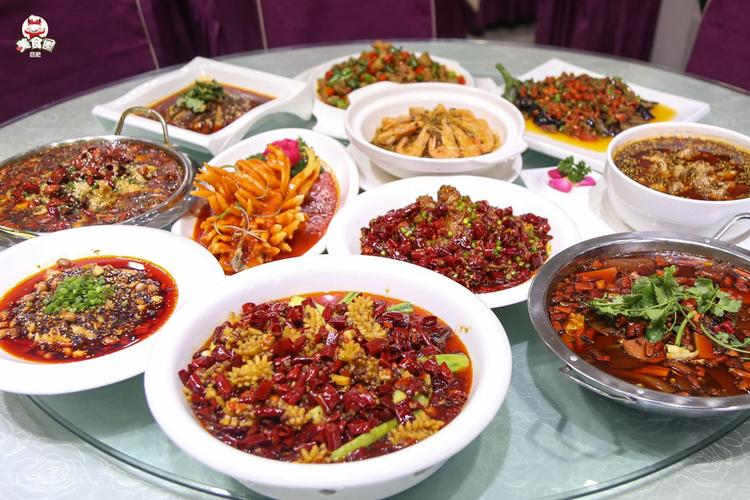food: (152, 255, 502, 485), (530, 216, 749, 413), (1, 221, 192, 385), (341, 171, 569, 303), (173, 127, 350, 283), (0, 124, 192, 234), (597, 110, 750, 235), (494, 59, 678, 157), (348, 79, 524, 179), (296, 34, 479, 115), (131, 59, 281, 149)
